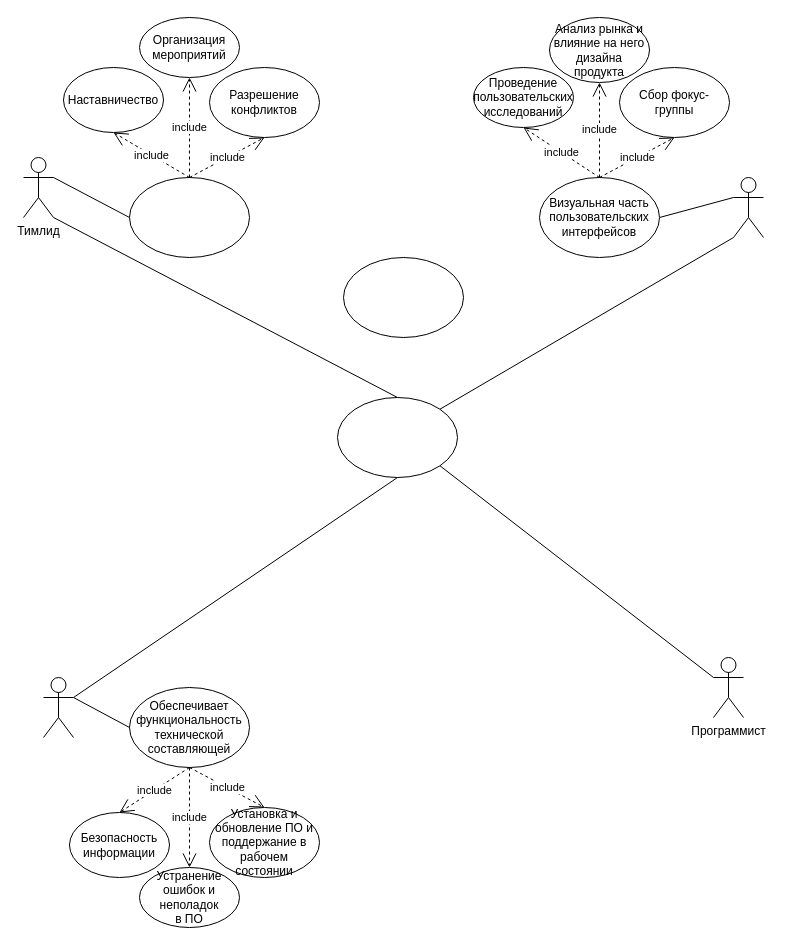
This 792x945 diagram has some shape labels left out. Each missing label, with the centre of its shape:
Дизайнер: (x=748, y=207)
Команда разработки: (x=397, y=437)
Обязан всячески поддерживать команду: (x=189, y=217)
Сисадмин: (x=58, y=707)
Техническая часть (ПК и прочие технические устройства): (x=403, y=297)
